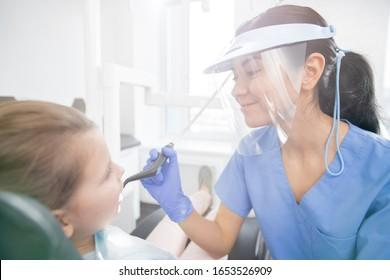gloves: (139, 146, 194, 221)
